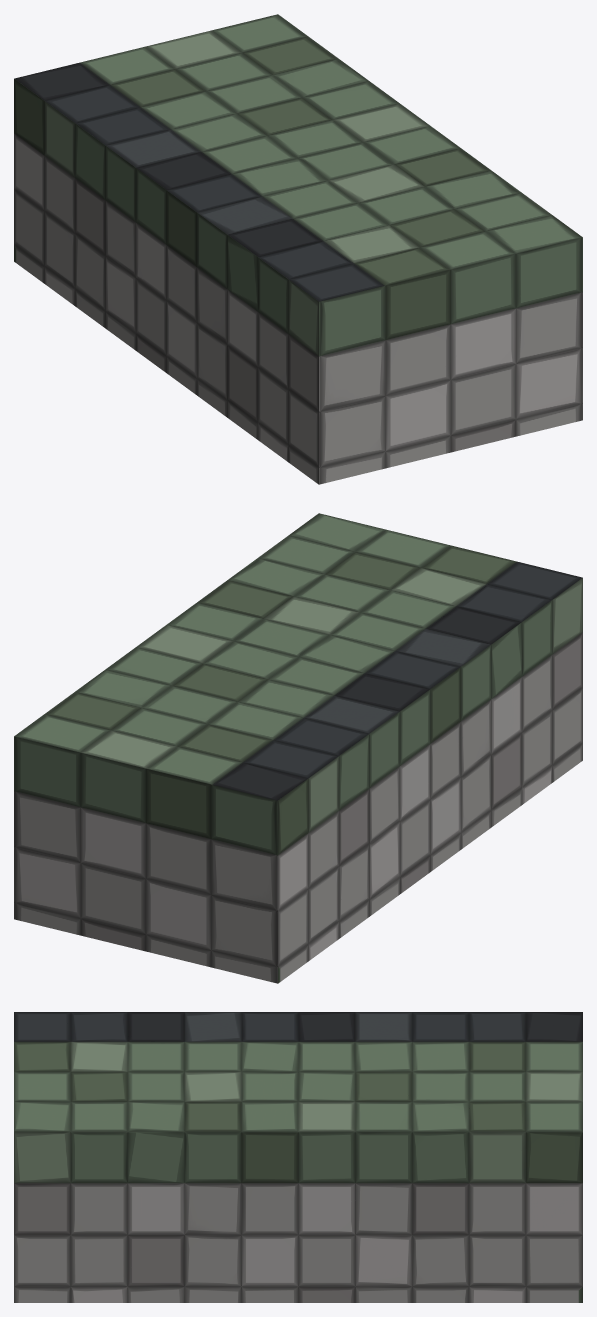
File: SM_Bld_Archway_Straight_Middle_01.fbx
3 renders of one model, top to bottom at view 1: azimuth 30°, elevation 25°; view 2: azimuth 150°, elevation 25°; view 3: azimuth 270°, elevation 25°, orthographic. The views are drawn at different scales.
Visible parts, largest first — view 1: SM_Bld_Archway_Straight_Middle_01; view 2: SM_Bld_Archway_Straight_Middle_01; view 3: SM_Bld_Archway_Straight_Middle_01.
Part boxes in pixels (x1=…): SM_Bld_Archway_Straight_Middle_01: x1=14, y1=14, x2=582, y2=484; SM_Bld_Archway_Straight_Middle_01: x1=14, y1=513, x2=582, y2=983; SM_Bld_Archway_Straight_Middle_01: x1=14, y1=1012, x2=582, y2=1302.
Size of the model in its own units: 125 by 82.74 by 250.
